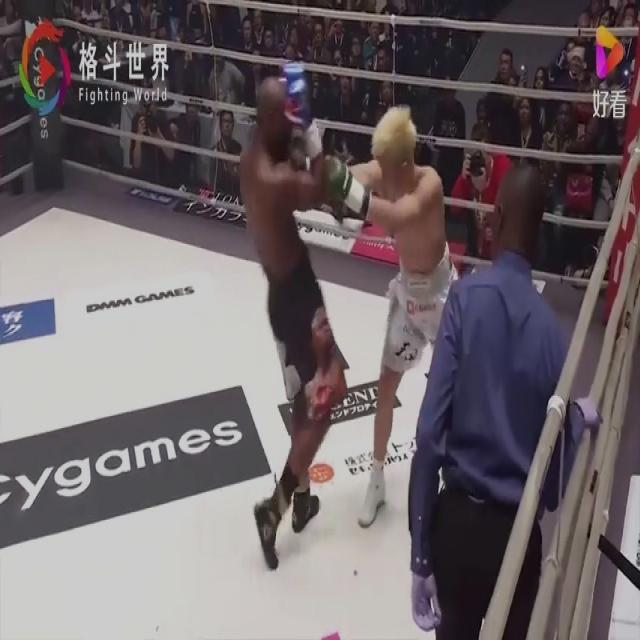fight: (241, 77, 487, 577)
